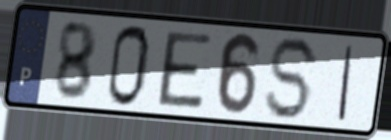0: (105, 22, 154, 109)
6: (215, 29, 263, 119)
8: (52, 19, 101, 103)
E: (156, 30, 215, 112)
I: (335, 42, 356, 124)
S: (263, 34, 323, 122)
